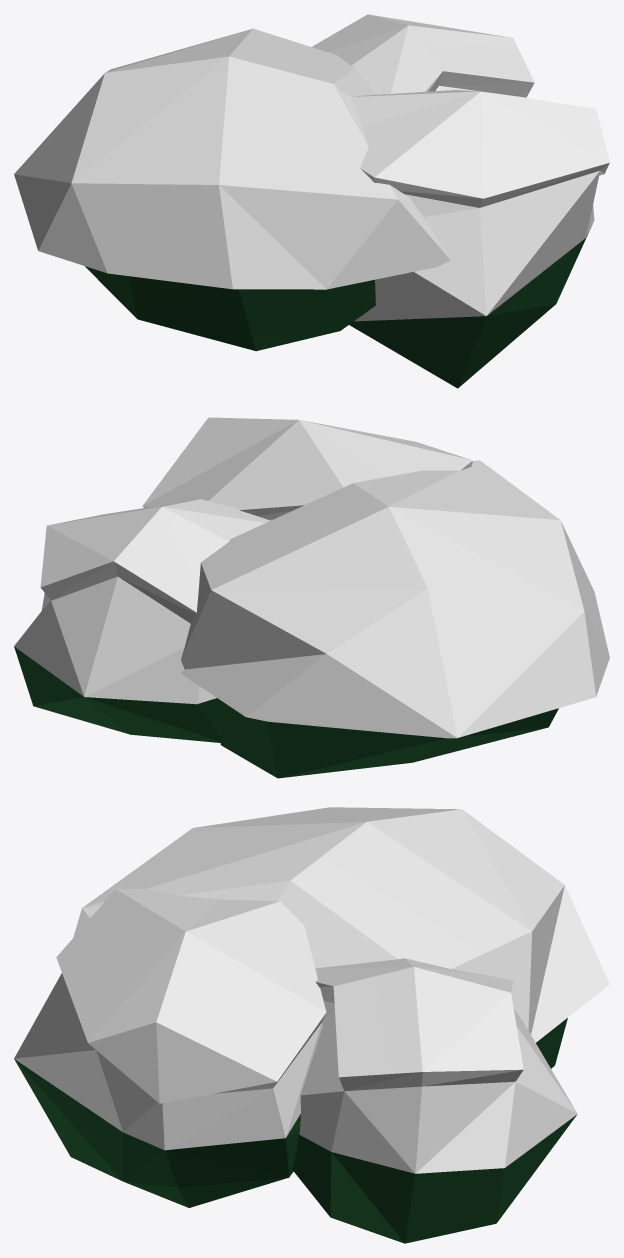
The model's file is Bush_winter_004.fbx.
3 views of the same model, one above another, from view 1: azimuth 30°, elevation 25°; view 2: azimuth 150°, elevation 25°; view 3: azimuth 270°, elevation 25° (orthographic). The views are drawn at different scales.
Parts seen in each view (by area): view 1: Bush_winter_004; view 2: Bush_winter_004; view 3: Bush_winter_004.
Part boxes in pixels (left/top/right/bottom): Bush_winter_004: left=14, top=14, right=609, bottom=388; Bush_winter_004: left=14, top=417, right=609, bottom=778; Bush_winter_004: left=14, top=807, right=609, bottom=1243.
Bounding box in the file's own units: 241 × 115 × 219.
